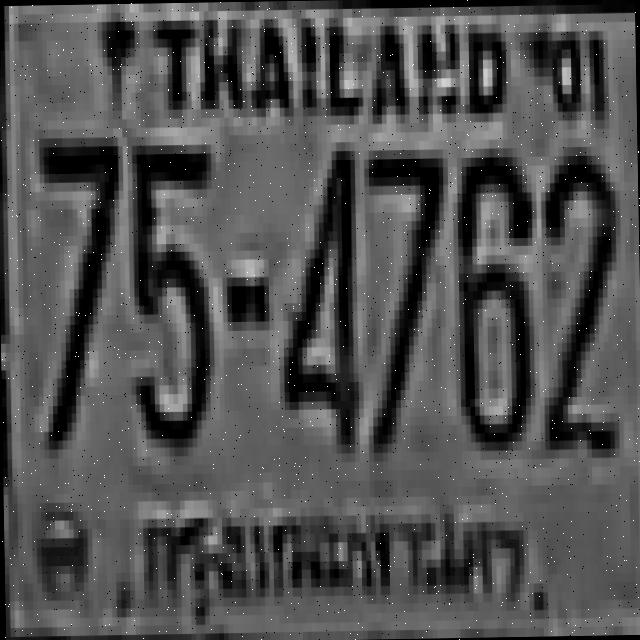2: (538, 142, 616, 445)
4: (276, 142, 354, 445)
5: (127, 136, 211, 438)
6: (452, 139, 530, 442)
7: (34, 128, 118, 440), (363, 140, 442, 444)
Bangkok: (138, 486, 538, 638)
